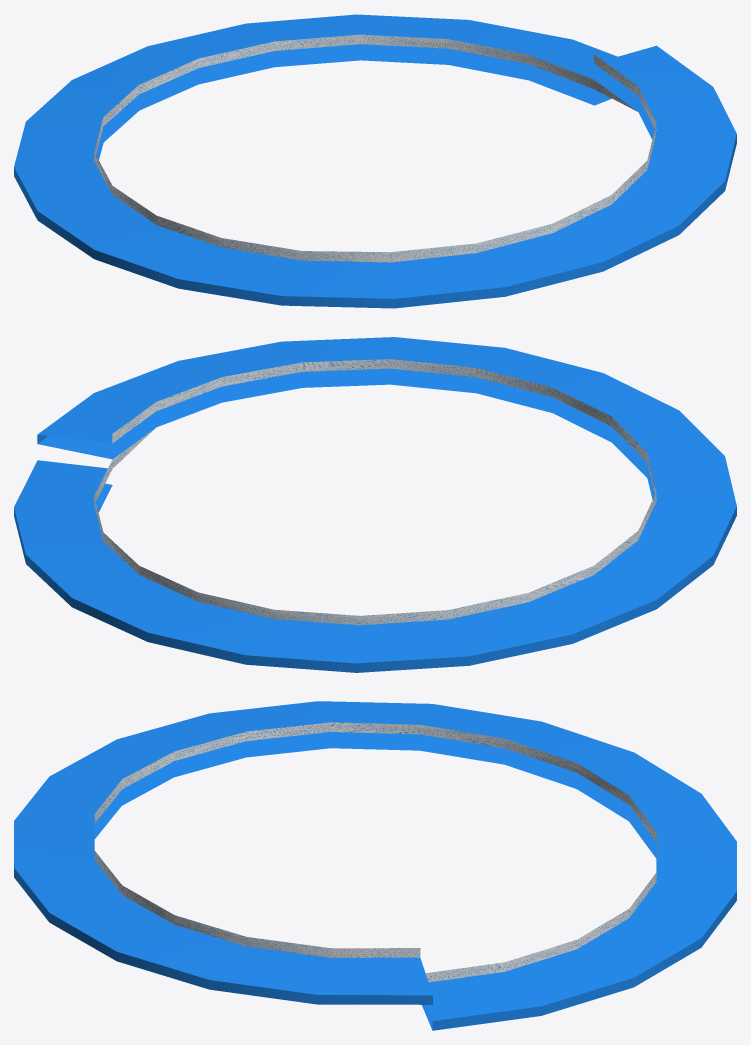
The model's file is original-8.obj.
3 views of the same model, one above another, from view 1: azimuth 30°, elevation 25°; view 2: azimuth 150°, elevation 25°; view 3: azimuth 270°, elevation 25° (orthographic).
Visible parts, largest first — view 1: _1_1_5/_1_1/mesh1/mesh1-geometry#mesh1-geometry; view 2: _1_1_5/_1_1/mesh1/mesh1-geometry#mesh1-geometry; view 3: _1_1_5/_1_1/mesh1/mesh1-geometry#mesh1-geometry.
Part boxes in pixels (x1,y1,x2,y2): _1_1_5/_1_1/mesh1/mesh1-geometry#mesh1-geometry: (14,14,736,308); _1_1_5/_1_1/mesh1/mesh1-geometry#mesh1-geometry: (14,337,736,672); _1_1_5/_1_1/mesh1/mesh1-geometry#mesh1-geometry: (14,701,736,1030).
Bounding box in the file's own units: 0.4024 × 0.0319 × 0.4024.
